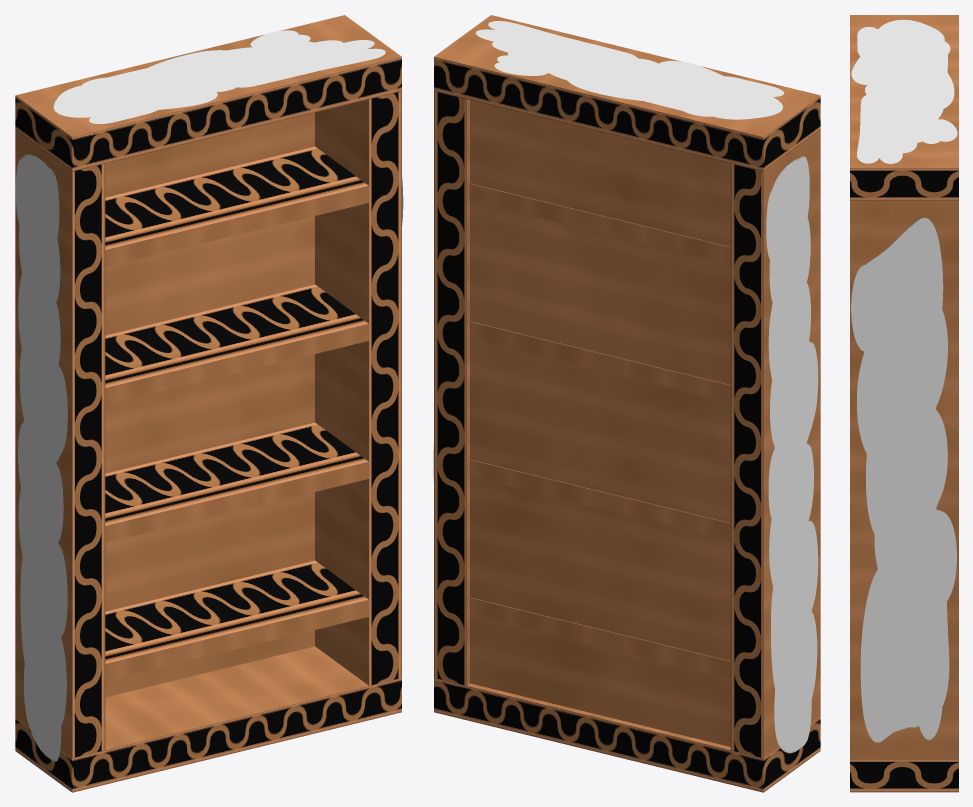
The model's file is M_CardboardAssets_Bookshelf.fbx.
3 renders of one model, left to right at view 1: azimuth 30°, elevation 25°; view 2: azimuth 150°, elevation 25°; view 3: azimuth 270°, elevation 25°, orthographic. The views are drawn at different scales.
Visible parts, largest first — view 1: Backing, Right, Left, Bottom, Paint_2, Top, Shelf_2, Shelf_1, Shelf_4, Shelf_3, Paint_3; view 2: Backing, Left, Paint_2, Right, Top, Bottom, Paint_3, Shelf_1, Shelf_2, Shelf_4, Shelf_3; view 3: Paint_1, Right, Paint_3, Top, Bottom.
Part boxes in pixels (<box>): Backing: <box>105,112,314,697</box>; Right: <box>315,91,401,685</box>; Left: <box>15,130,105,757</box>; Bottom: <box>15,646,401,792</box>; Paint_2: <box>15,154,67,761</box>; Top: <box>15,15,401,171</box>; Shelf_2: <box>105,284,368,404</box>; Shelf_1: <box>105,146,368,266</box>; Shelf_4: <box>105,560,368,680</box>; Shelf_3: <box>105,422,368,542</box>; Paint_3: <box>53,30,385,123</box>; Backing: <box>470,100,730,746</box>; Left: <box>730,130,820,757</box>; Paint_2: <box>766,156,818,753</box>; Right: <box>434,91,469,685</box>; Top: <box>434,15,820,171</box>; Bottom: <box>434,678,820,792</box>; Paint_3: <box>475,21,783,119</box>; Shelf_1: <box>469,183,730,264</box>; Shelf_2: <box>469,321,730,402</box>; Shelf_4: <box>469,597,730,678</box>; Shelf_3: <box>469,459,730,540</box>; Paint_1: <box>851,217,956,742</box>; Right: <box>850,201,958,759</box>; Paint_3: <box>851,19,957,163</box>; Top: <box>850,15,958,200</box>; Bottom: <box>850,759,958,792</box>.
Size of the model in its own units: 2.52 by 4.76 by 0.75.
Materials: 2 (2 with a texture image).
